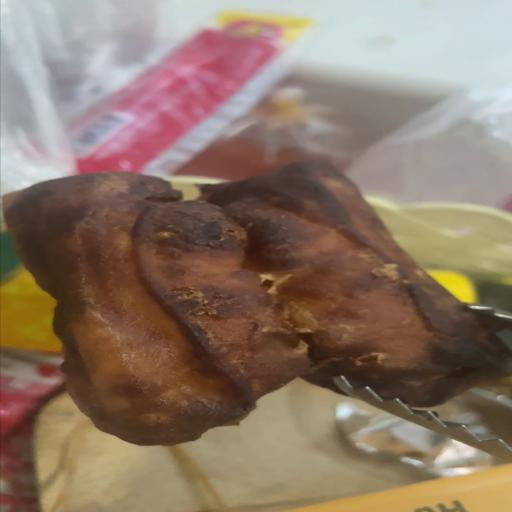street_burnt_defect: (3, 162, 512, 446)
